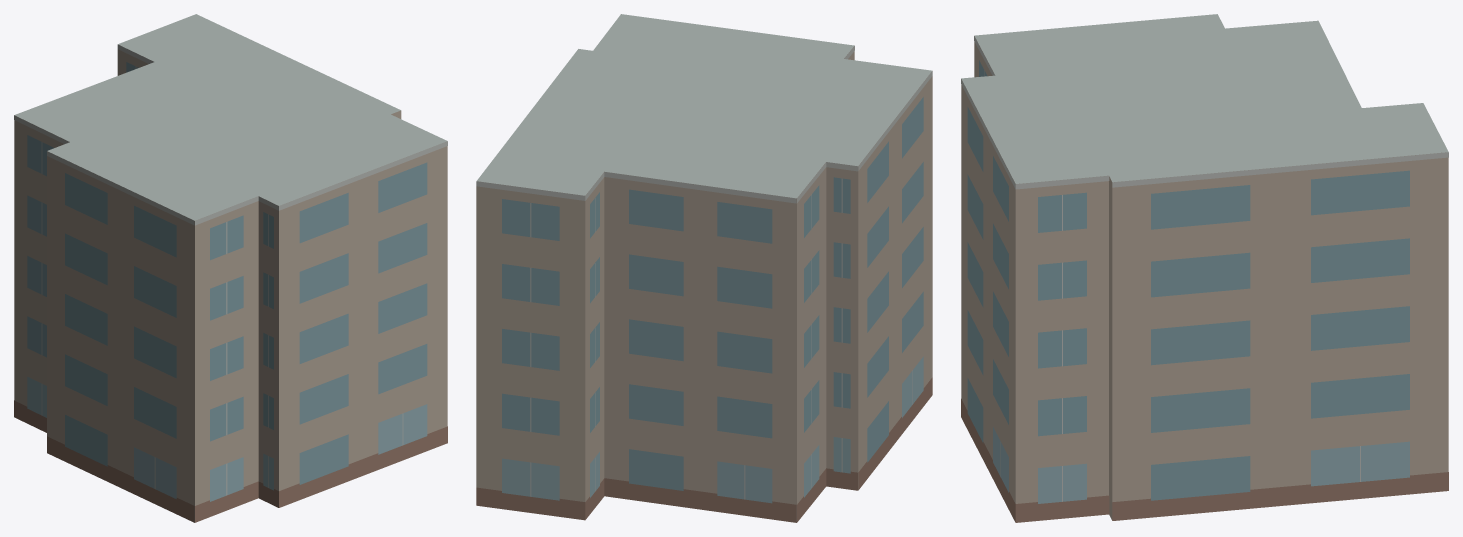
The model's file is survey-upis-32962538.glb.
3 renders of one model, left to right at view 1: azimuth 30°, elevation 25°; view 2: azimuth 150°, elevation 25°; view 3: azimuth 270°, elevation 25°, orthographic. The views are drawn at different scales.
Visible parts, largest first — view 1: survey-upis-32962538.tmp; view 2: survey-upis-32962538.tmp; view 3: survey-upis-32962538.tmp.
Boxes of the visible parts, x1,y1,x2,y2 form: survey-upis-32962538.tmp: (14, 14, 447, 522); survey-upis-32962538.tmp: (476, 14, 932, 522); survey-upis-32962538.tmp: (961, 14, 1448, 522).
Size of the model in its own units: 16.43 by 15.25 by 19.91.
